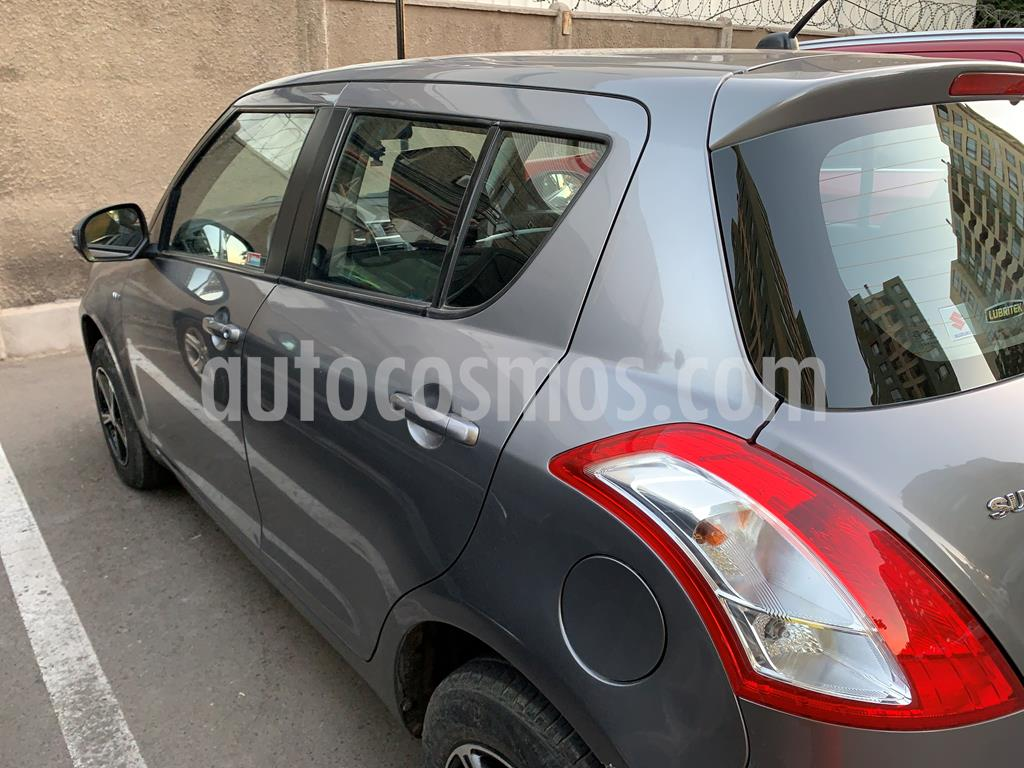Camioneta: (48, 20, 1024, 743)
